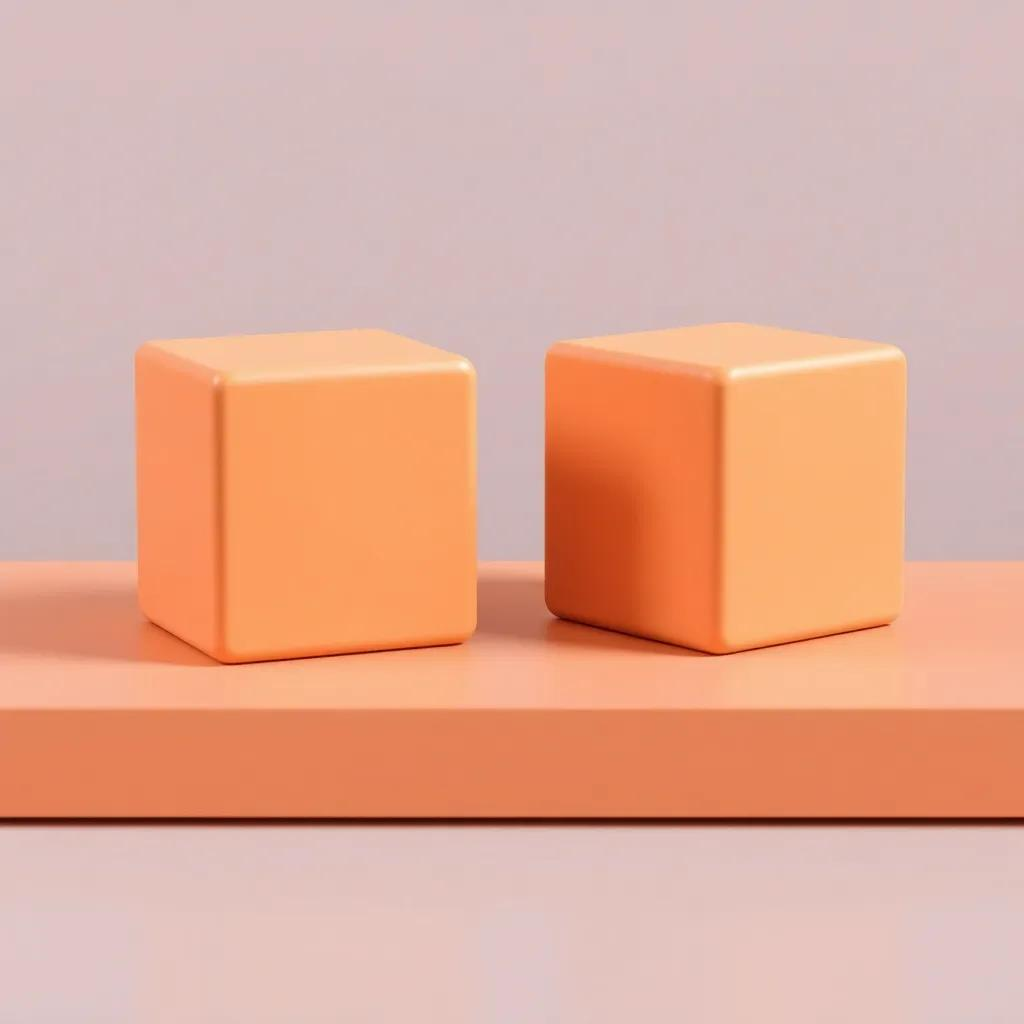cube: (542, 319, 907, 654), (133, 325, 478, 664)
